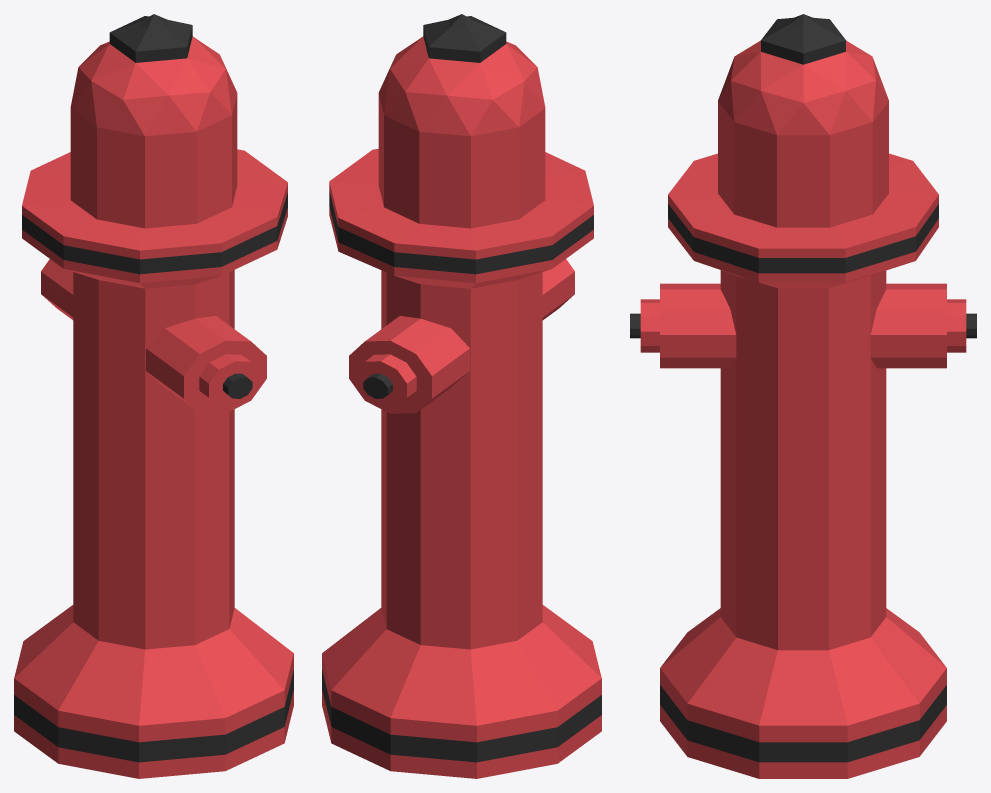
Rendered from Fire.fbx.
The picture shows the model from 3 angles, left to right: view 1: azimuth 30°, elevation 25°; view 2: azimuth 150°, elevation 25°; view 3: azimuth 270°, elevation 25°; orthographic projection.
Parts seen in each view (by area): view 1: Icosphere; view 2: Icosphere; view 3: Icosphere.
Part boxes in pixels (left/top/right/bottom): Icosphere: left=14, top=14, right=293, bottom=778; Icosphere: left=322, top=14, right=601, bottom=778; Icosphere: left=630, top=14, right=976, bottom=778.
Bounding box in the file's own units: 1.9 × 5.44 × 2.42.
